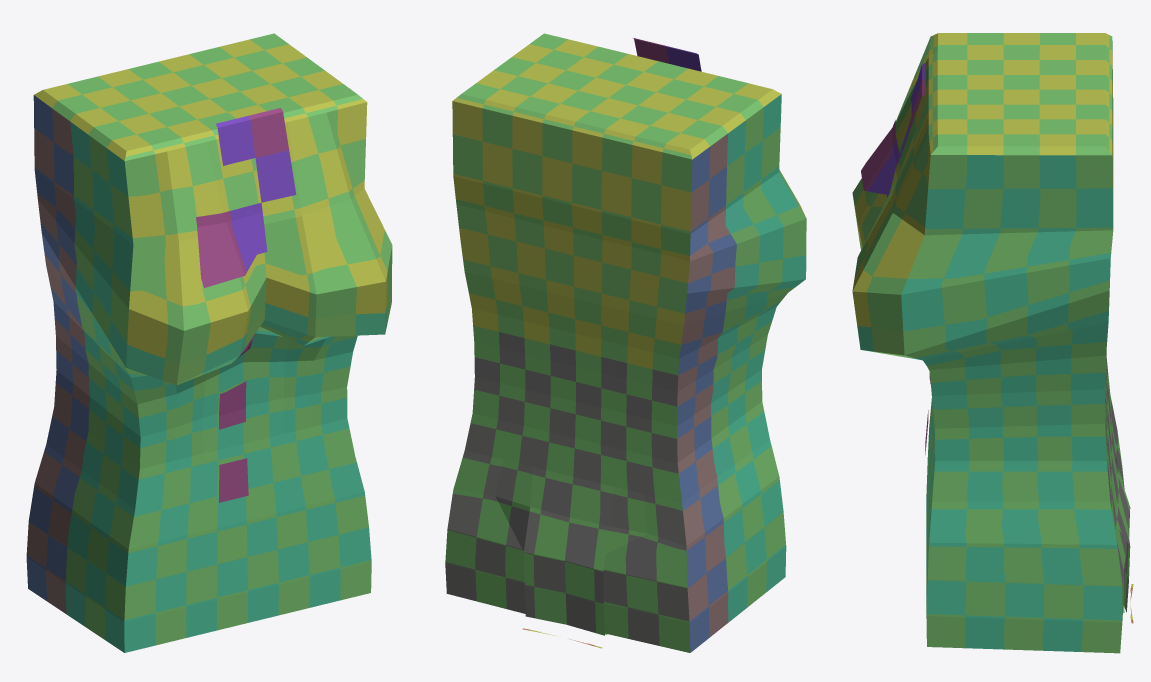
The model's file is aBitMuchDontYouThink.glb.
3 views of the same model, side by side, from view 1: azimuth 30°, elevation 25°; view 2: azimuth 150°, elevation 25°; view 3: azimuth 270°, elevation 25° (orthographic).
Parts seen in each view (by area): view 1: torsoSlim.002, torsoSlimOL.002; view 2: torsoSlim.002, torsoSlimOL.002; view 3: torsoSlim.002, torsoSlimOL.002.
Boxes of the visible parts, x1,y1,x2,y2 form: torsoSlim.002: (26, 33, 392, 652); torsoSlimOL.002: (196, 108, 296, 502); torsoSlim.002: (445, 33, 806, 652); torsoSlimOL.002: (522, 38, 701, 648); torsoSlim.002: (852, 33, 1130, 653); torsoSlimOL.002: (861, 62, 1133, 623).
Size of the model in its own units: 0.3412 by 0.6079 by 0.3017.
Materials: 1 (1 with a texture image).
